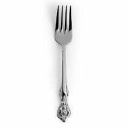fork: (48, 5, 81, 124)
